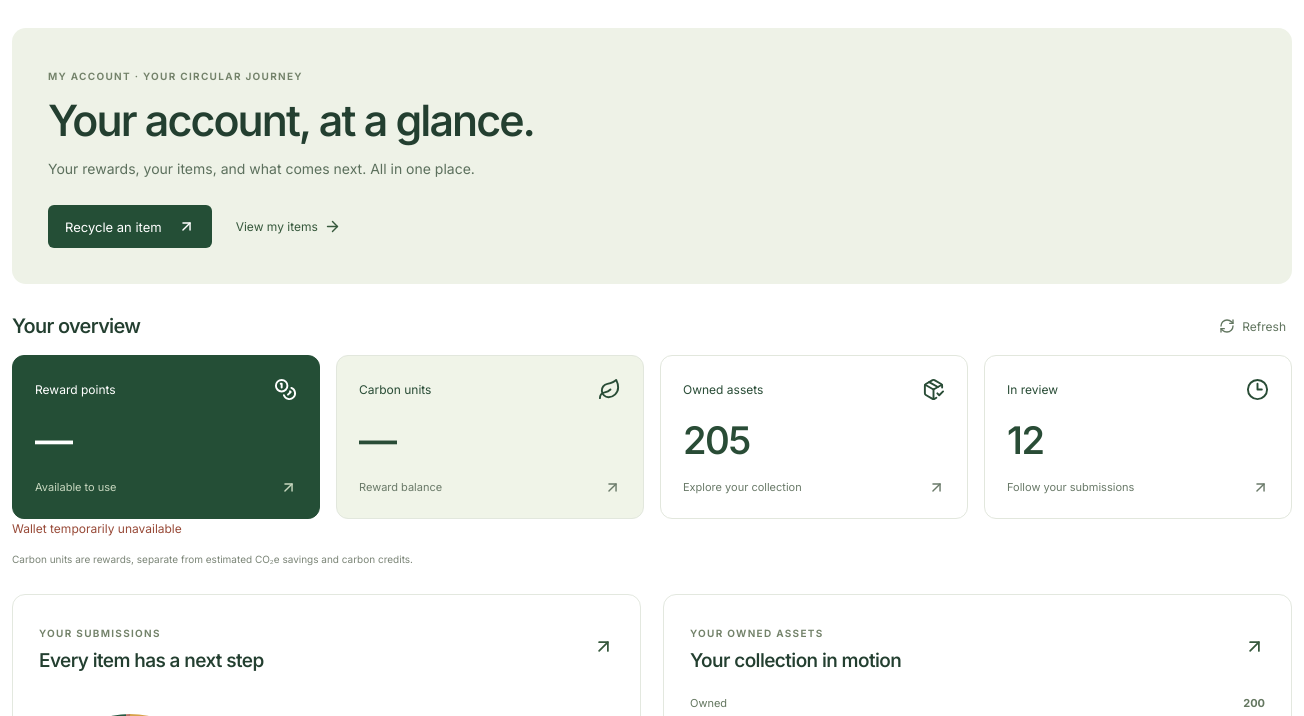
Scenario: keeps item summaries usable after a wallet failure and recovers with refresh
The image size is (1304, 716).
Expected: the message reads "Wallet temporarily unavailable", 12,521 -> 182,536
Expected: the text "205" is shown, 683,417 -> 750,463
Click the button with aria-label "Refresh dashboard" at (1253, 326), box 1213,317 -> 1292,335
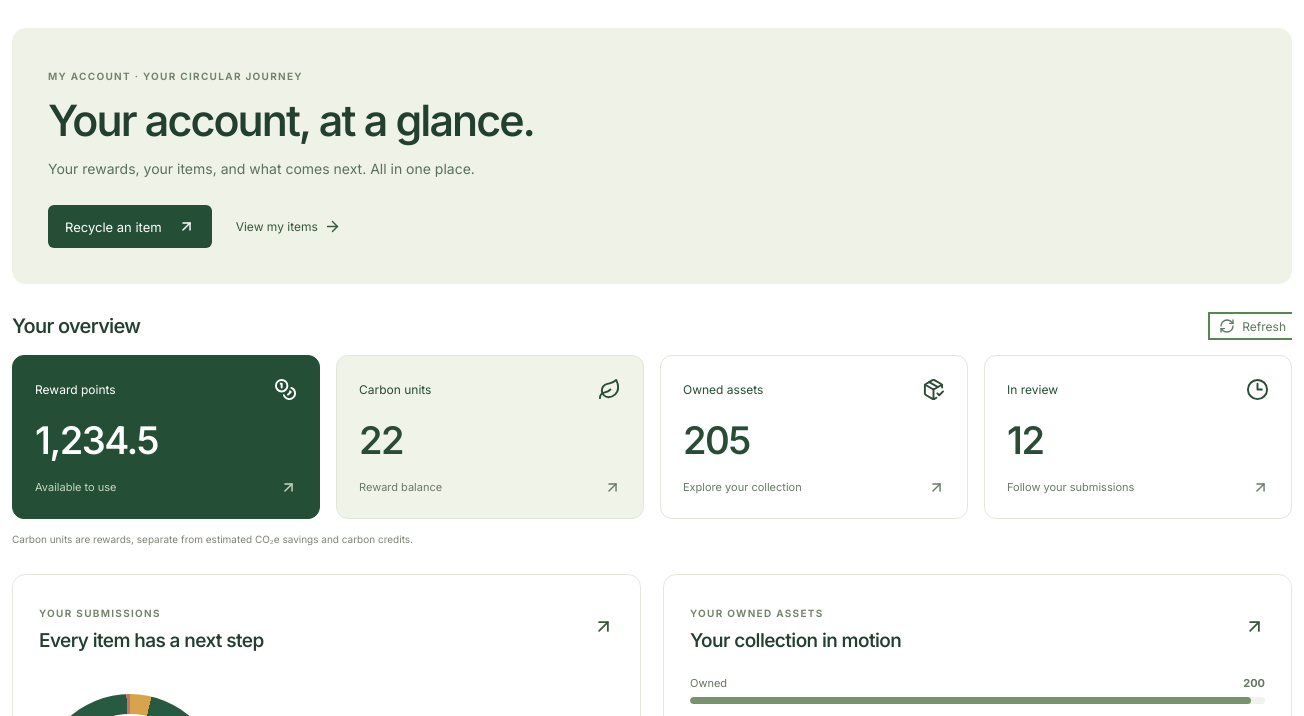
Now the text "1,234.5" is shown, box 35,417 -> 158,463
Now the message "Wallet temporarily unavailable" is gone
